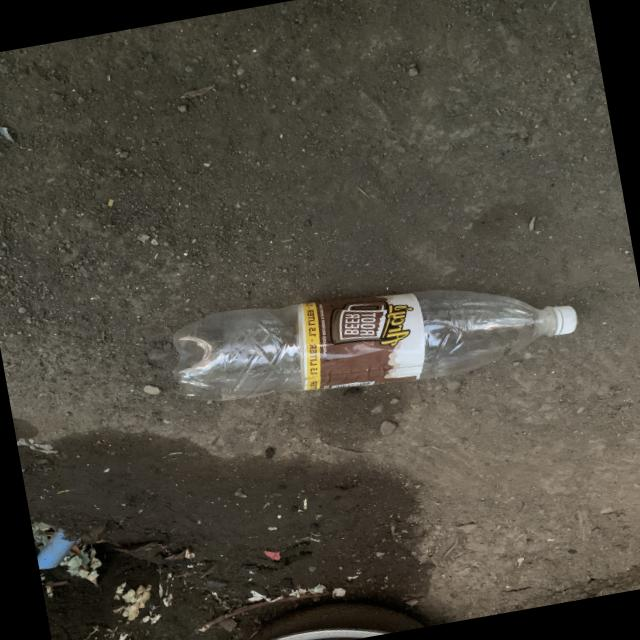Bottle: (173, 290, 577, 400)
